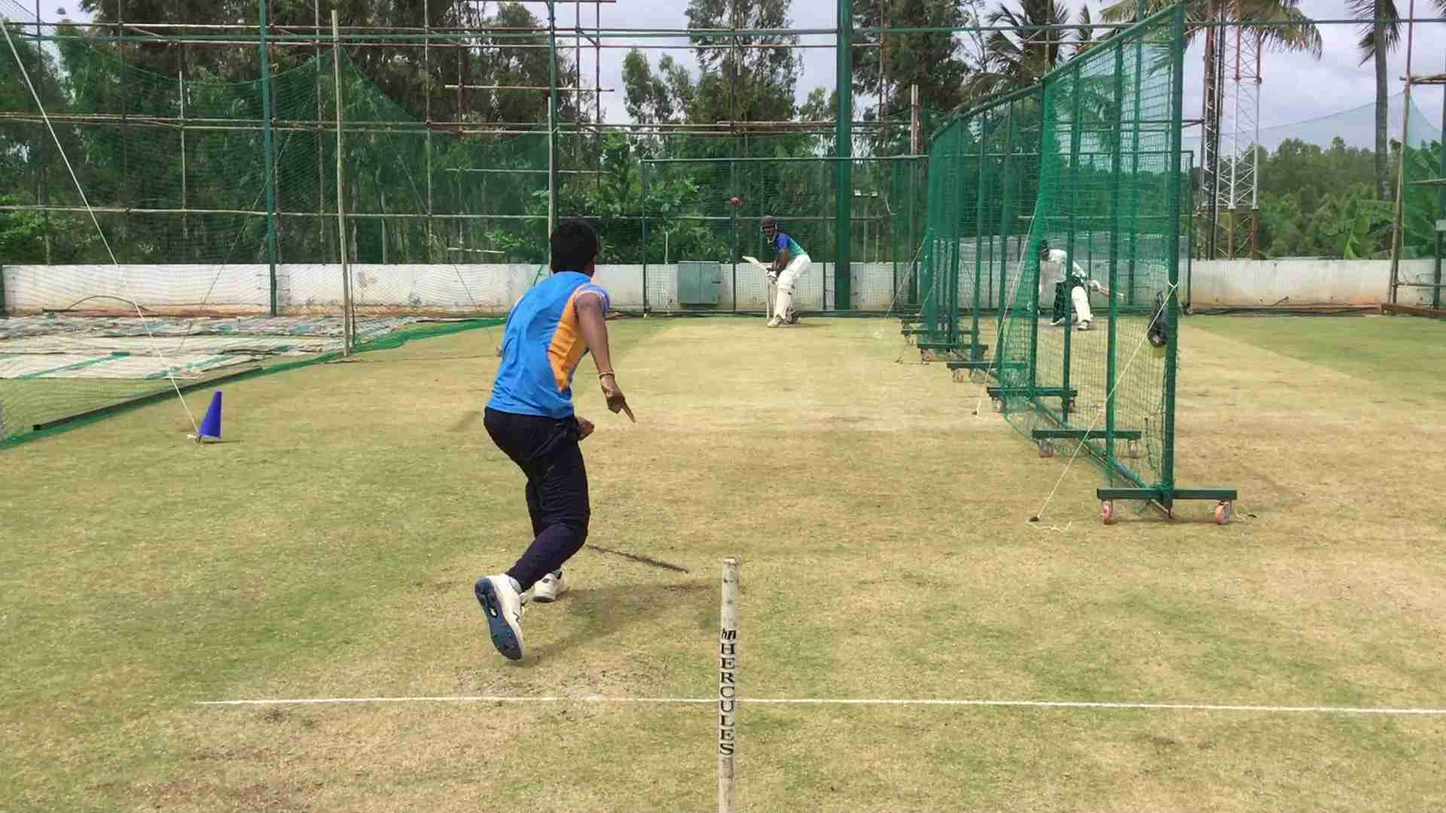batsman: (755, 208, 819, 330)
